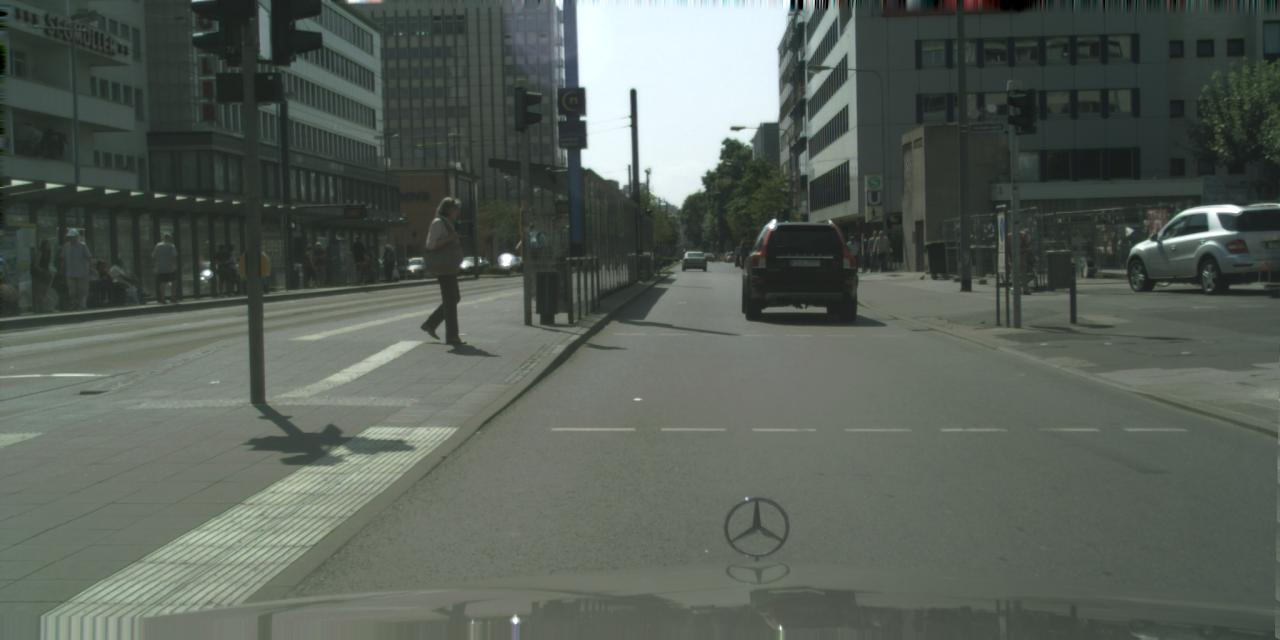ped: (415, 196, 474, 340), (86, 258, 153, 310), (58, 228, 90, 310), (52, 232, 82, 309), (28, 240, 58, 312), (1004, 222, 1034, 294), (154, 232, 182, 302), (212, 243, 234, 295), (220, 243, 240, 296), (348, 236, 368, 283), (310, 242, 328, 286), (301, 245, 319, 288), (874, 229, 891, 272), (866, 230, 882, 272), (382, 244, 396, 282), (846, 236, 860, 270)
